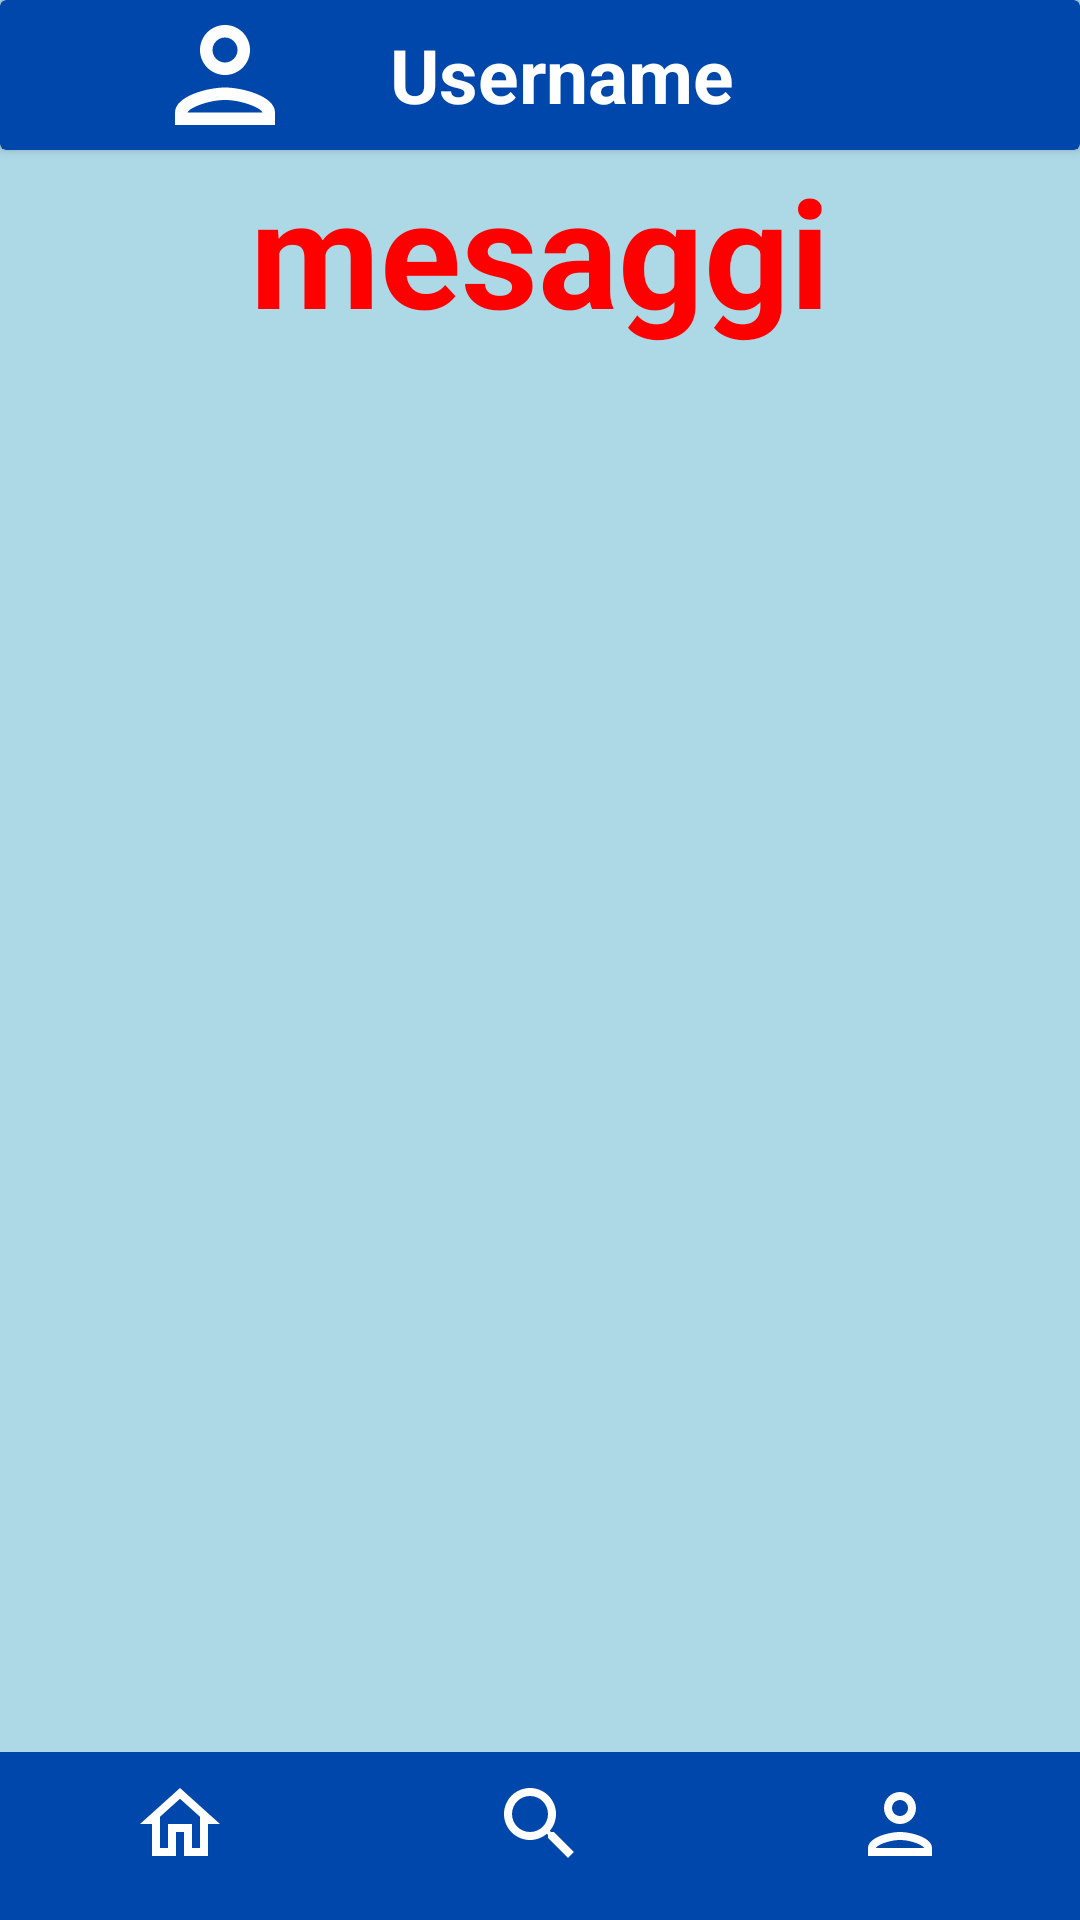

Named icons in this screenshot (1080 × 1920) and their centers, (x=x, y=y):
person: (x=225, y=75)
